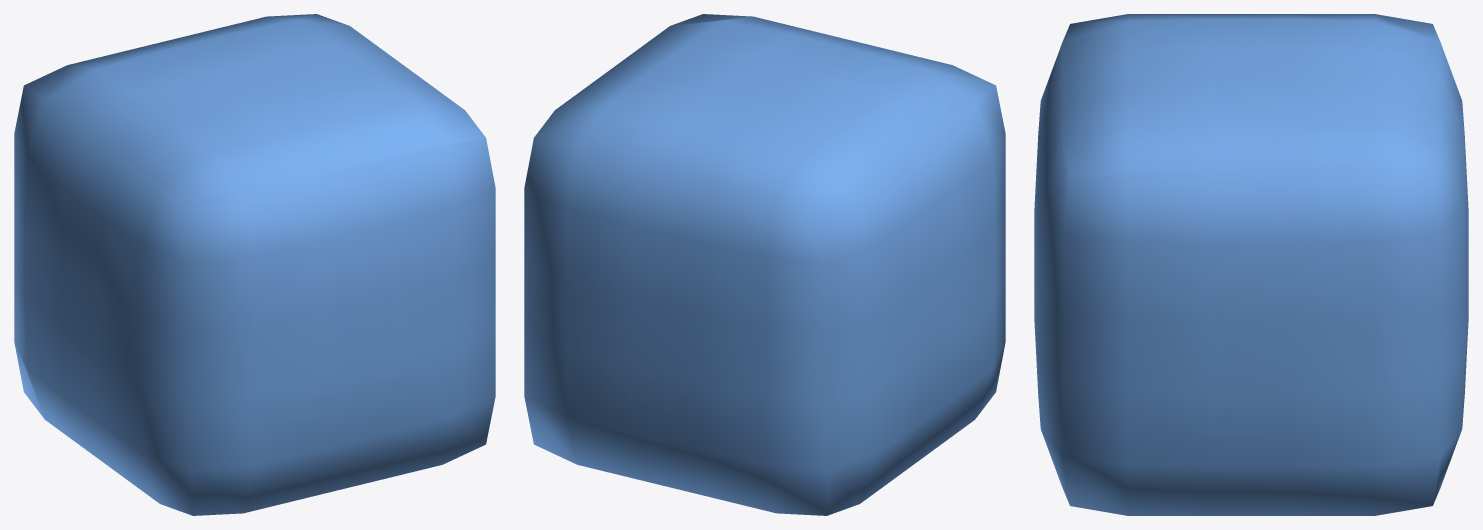
The model's file is block_cube10.glb.
3 views of the same model, side by side, from view 1: azimuth 30°, elevation 25°; view 2: azimuth 150°, elevation 25°; view 3: azimuth 270°, elevation 25° (orthographic). The views are drawn at different scales.
Visible parts, largest first — view 1: BlockCube10; view 2: BlockCube10; view 3: BlockCube10.
Part boxes in pixels (x1,y1,x2,y2): BlockCube10: (14, 14, 495, 515); BlockCube10: (524, 14, 1005, 515); BlockCube10: (1034, 14, 1468, 515).
Size of what is drawn, in the model's own units: 0.1055 by 0.1055 by 0.1055.
1 material, 1 textured.
